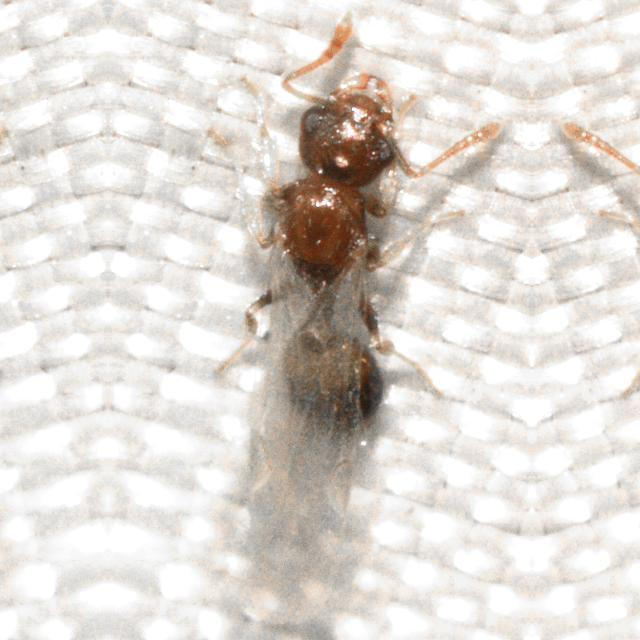Temnothorax: (174, 23, 502, 464), (560, 22, 640, 464)
